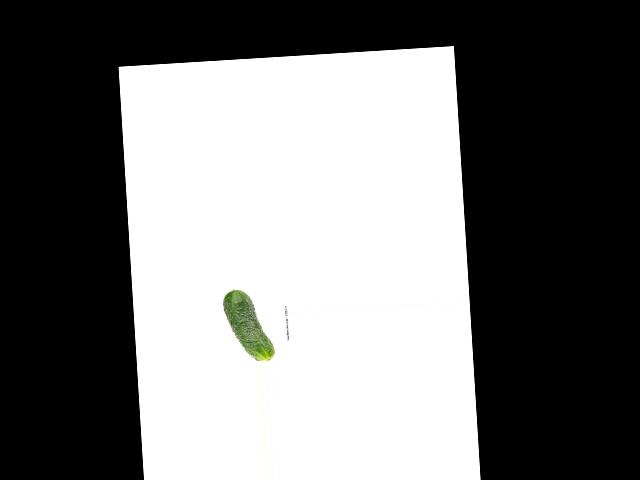cucumber: (222, 287, 275, 363)
